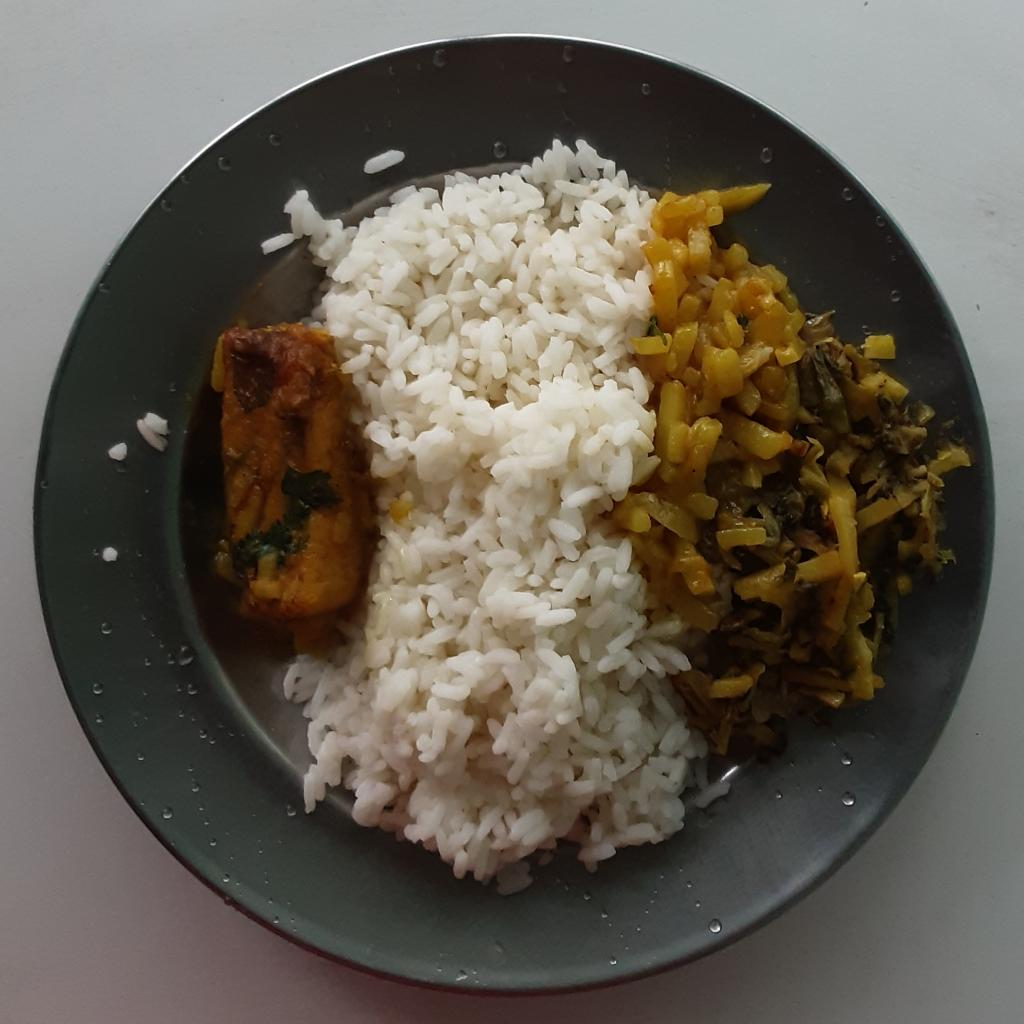fish: (211, 318, 372, 627)
korola-vaji: (678, 313, 974, 765)
potato: (618, 179, 808, 635)
rice: (260, 137, 726, 903)
